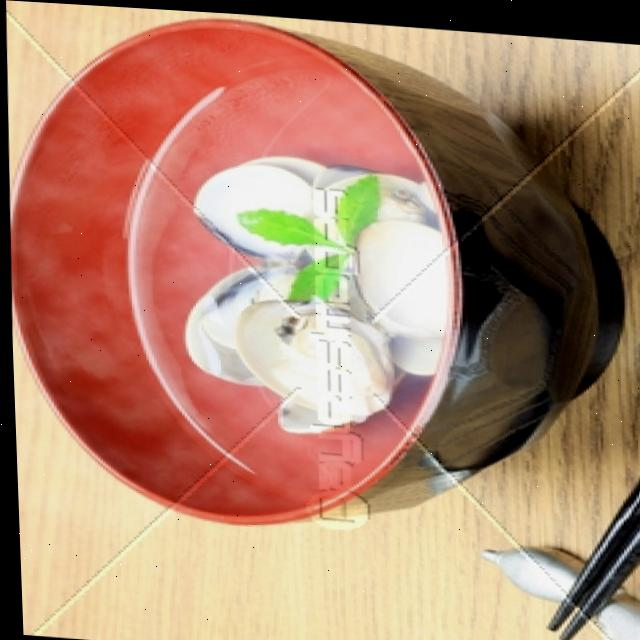汤锅炖物: (9, 0, 487, 546)
